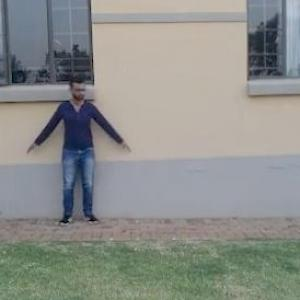land: (28, 78, 132, 238)
